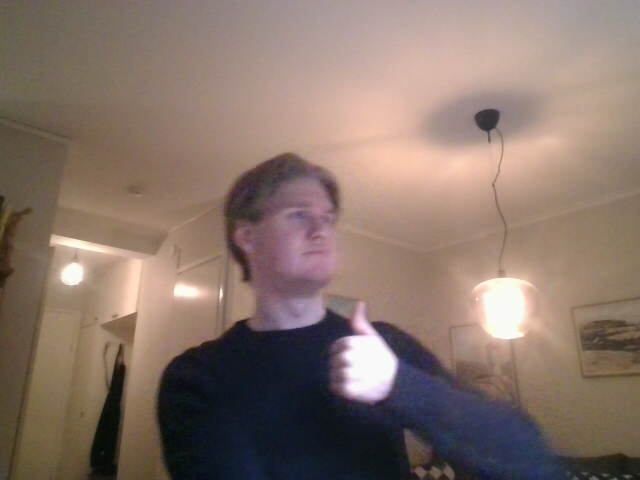ThumbsUp: (326, 298, 387, 405)
